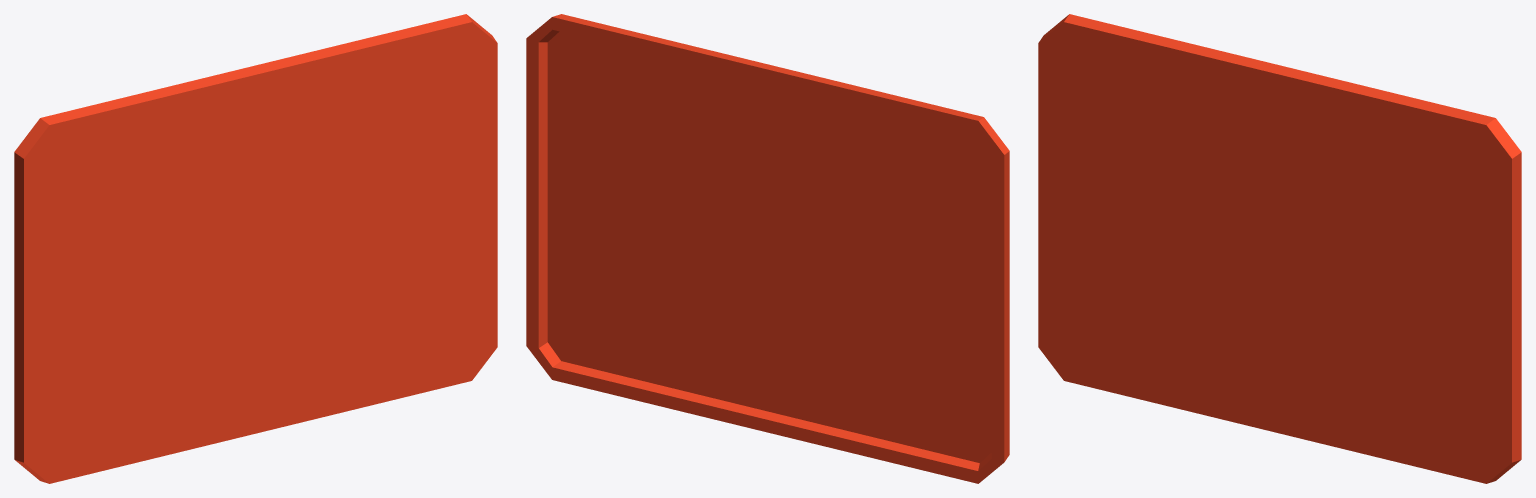
File: SM_Sign_Corner_A_City.fbx
3 views of the same model, side by side, from view 1: azimuth 30°, elevation 25°; view 2: azimuth 150°, elevation 25°; view 3: azimuth 330°, elevation 25° (orthographic).
Visible parts, largest first — view 1: SM_Sign_Corner_A_City; view 2: SM_Sign_Corner_A_City; view 3: SM_Sign_Corner_A_City.
Part boxes in pixels (x1,y1,x2,y2): SM_Sign_Corner_A_City: (14, 14, 497, 483); SM_Sign_Corner_A_City: (526, 14, 1009, 483); SM_Sign_Corner_A_City: (1038, 14, 1521, 483).
Size of the model in its own units: 0.8052 by 0.5841 by 0.0219.
